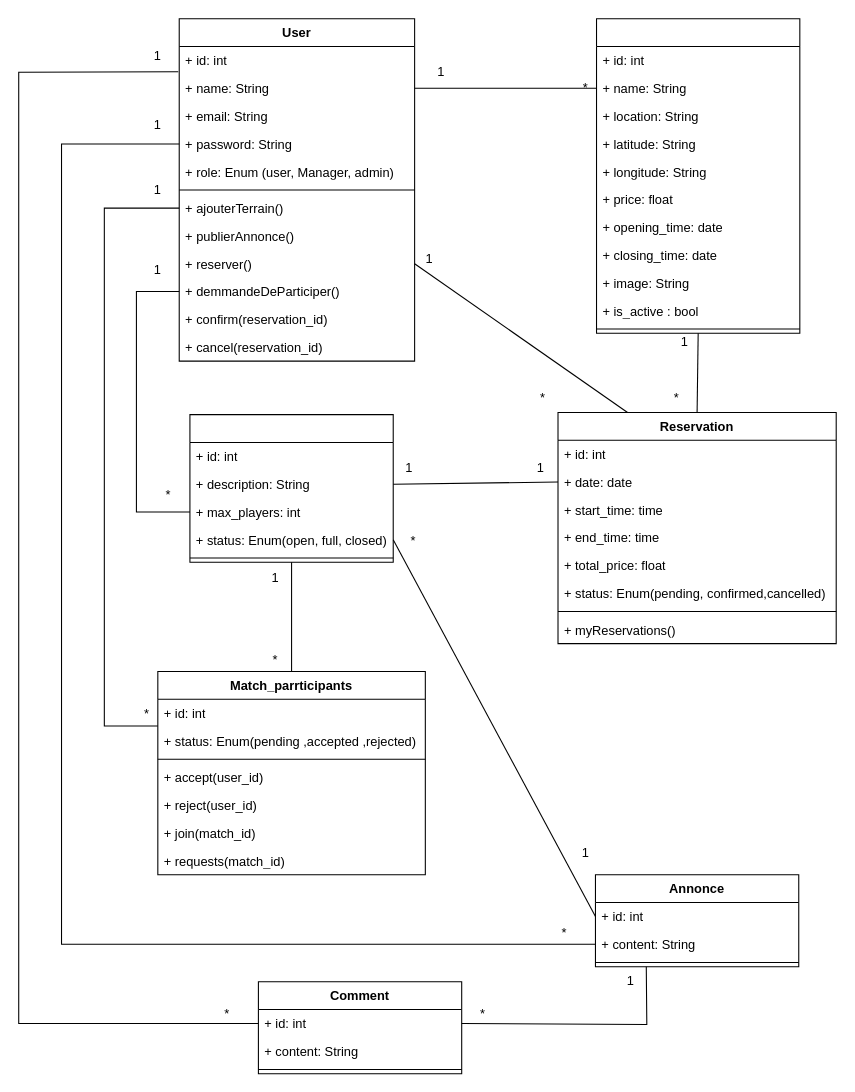
This 855x1092 diagram has some shape labels left out. Here are the shapes that lost their labels. From the top down, the box of each, then its label:
(595, 18, 800, 333): Terrain
(189, 414, 393, 562): Matche
